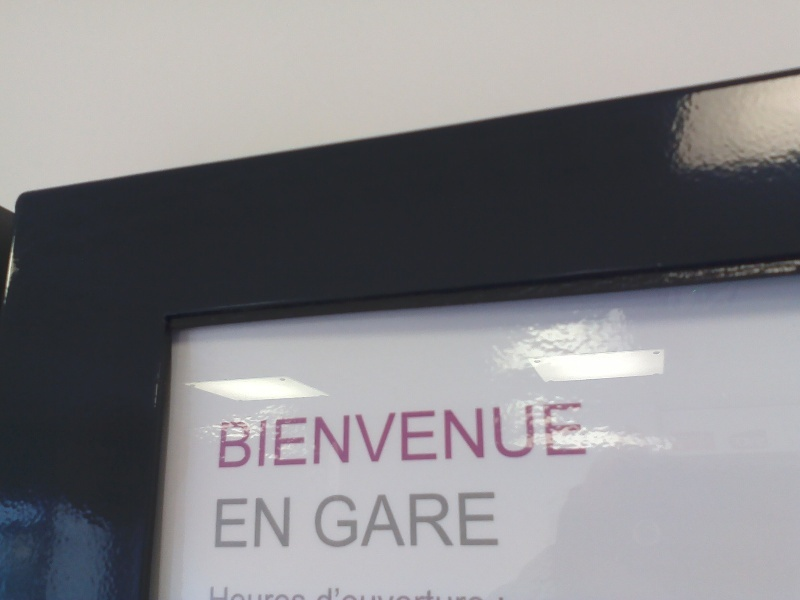text: (225, 400, 240, 470), (241, 400, 256, 470), (257, 400, 272, 470), (273, 400, 288, 470), (289, 400, 304, 470), (305, 400, 320, 470), (321, 400, 336, 470), (337, 400, 352, 470), (353, 400, 368, 470), (369, 400, 384, 470), (385, 400, 400, 470), (401, 400, 416, 470), (417, 400, 432, 470), (433, 400, 448, 470), (449, 400, 464, 470), (465, 400, 480, 470), (481, 400, 496, 470), (497, 400, 512, 470), (513, 400, 528, 470), (529, 400, 544, 470), (545, 400, 560, 470), (561, 400, 576, 470), (321, 489, 336, 549), (337, 489, 352, 549), (353, 489, 368, 549), (369, 489, 384, 549), (385, 489, 400, 549), (401, 489, 416, 549), (417, 489, 432, 549), (433, 489, 448, 549), (449, 489, 464, 549), (465, 489, 480, 549), (481, 489, 496, 549), (225, 497, 240, 549), (241, 497, 256, 549), (257, 497, 272, 549), (273, 497, 288, 549), (577, 400, 588, 470), (218, 400, 224, 470), (216, 497, 224, 549), (314, 489, 320, 549), (209, 586, 224, 599), (225, 586, 240, 599), (241, 586, 256, 599), (257, 586, 272, 599), (273, 586, 288, 599), (289, 586, 304, 599), (305, 586, 320, 599), (321, 586, 336, 599), (337, 586, 352, 599), (353, 586, 368, 599), (369, 586, 384, 599), (385, 586, 400, 599), (401, 586, 416, 599), (417, 586, 432, 599), (433, 586, 448, 599), (449, 586, 464, 599), (465, 586, 480, 599), (481, 586, 496, 599), (497, 489, 500, 549), (289, 497, 292, 549), (497, 586, 509, 599), (206, 586, 208, 599)
